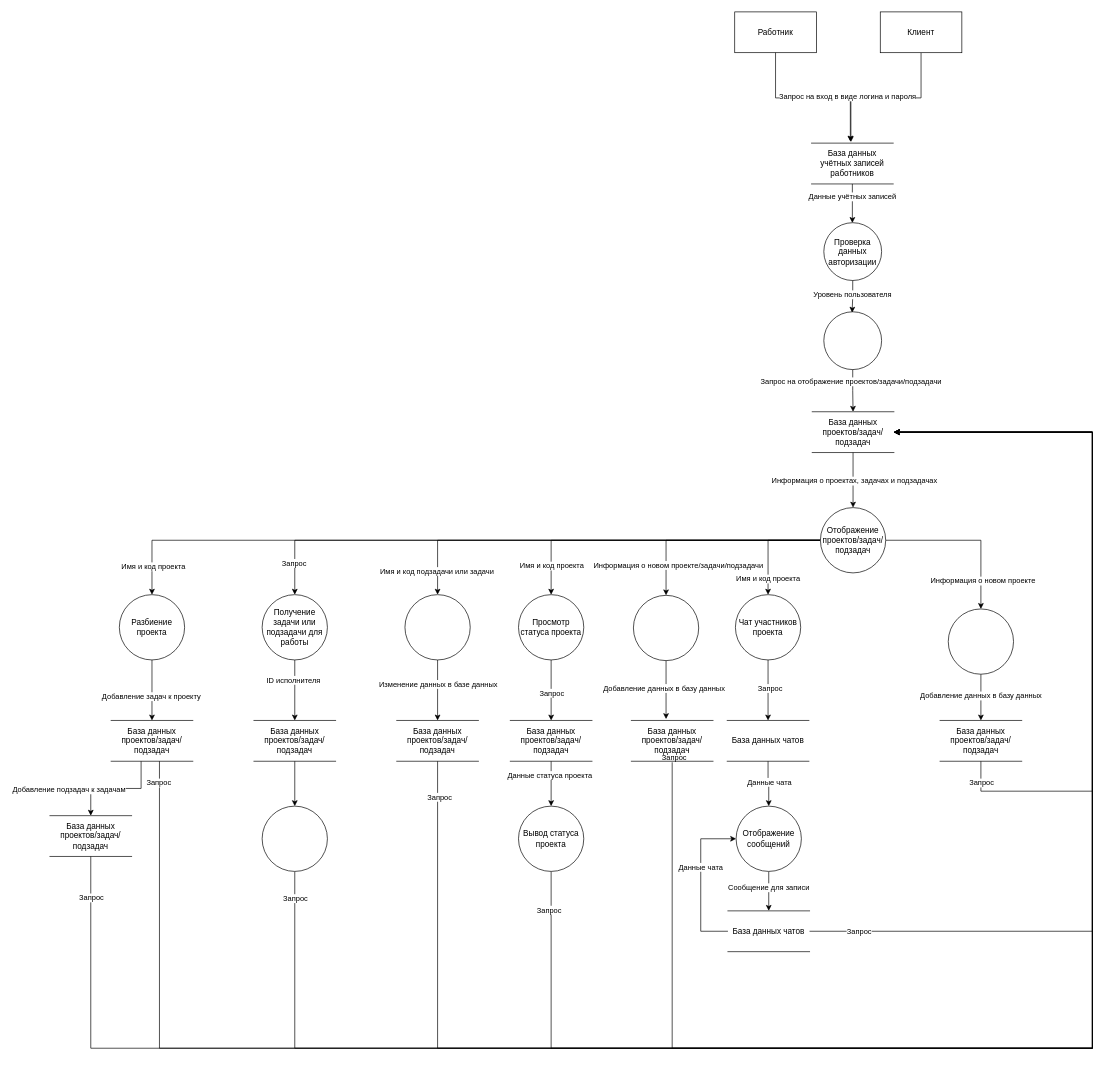
The diagram is 1110 pixels wide and 1066 high, and some of its shapes have lost their labels. Each missing label, with the box of its shape:
Вывод задачи или подзадачи для работы: (261, 805, 327, 871)
Выдача прав: (823, 311, 882, 370)
Отчёт о сделанной работе: (404, 594, 470, 660)
Создание проекта. Форма для клиента: (948, 608, 1014, 674)
Создание проекта/задачи/подзадачи. Форма для работника: (633, 595, 699, 661)
